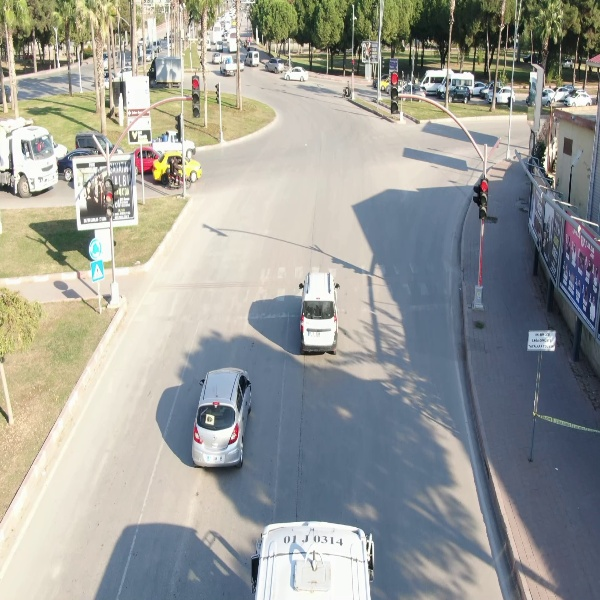car: (188, 365, 255, 472), (298, 270, 339, 353), (484, 85, 517, 105), (563, 90, 593, 108), (284, 63, 310, 83), (448, 84, 474, 103), (263, 56, 285, 75), (244, 49, 260, 68)
